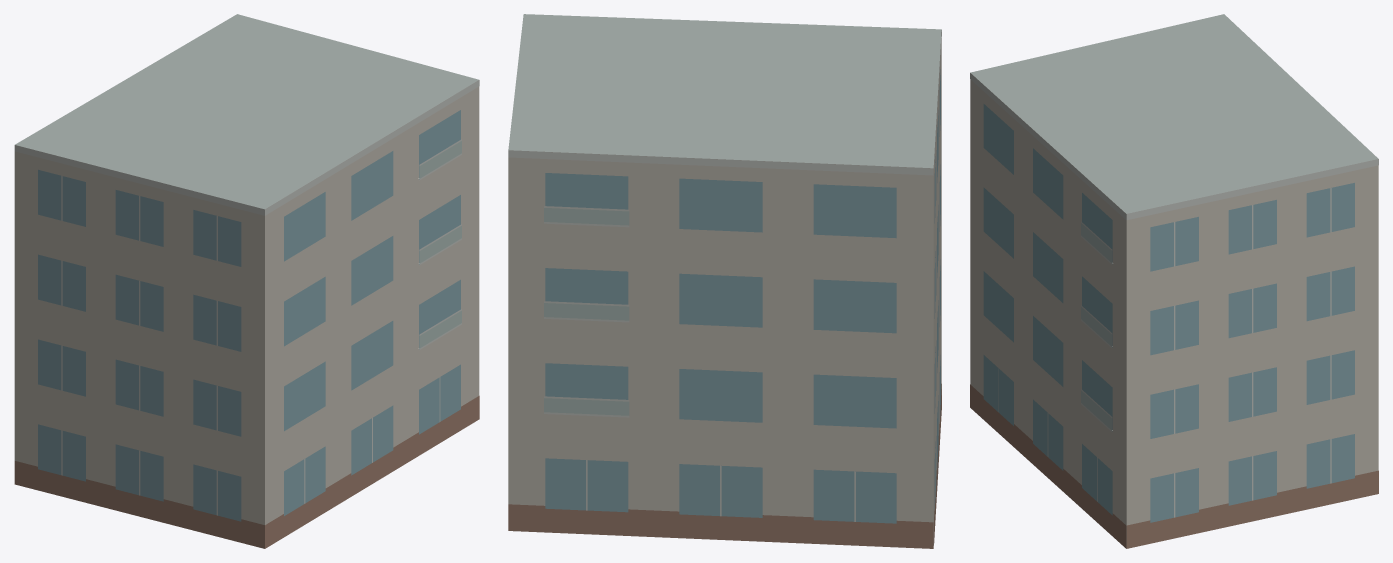
The model's file is survey-upis-32741630.glb.
3 renders of one model, left to right at view 1: azimuth 30°, elevation 25°; view 2: azimuth 150°, elevation 25°; view 3: azimuth 270°, elevation 25°, orthographic. The views are drawn at different scales.
Parts seen in each view (by area): view 1: survey-upis-32741630.tmp; view 2: survey-upis-32741630.tmp; view 3: survey-upis-32741630.tmp.
Part boxes in pixels (x1,y1,x2,y2): survey-upis-32741630.tmp: (14,14,479,548); survey-upis-32741630.tmp: (508,14,941,548); survey-upis-32741630.tmp: (970,14,1378,548).
Bounding box in the file's own units: 16.4 × 12.8 × 14.16.
